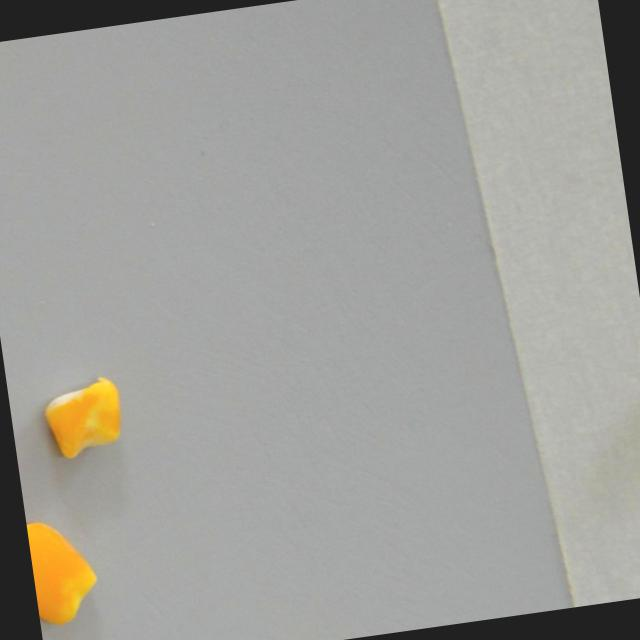no_canjicado: (26, 515, 104, 629), (40, 378, 127, 464)
